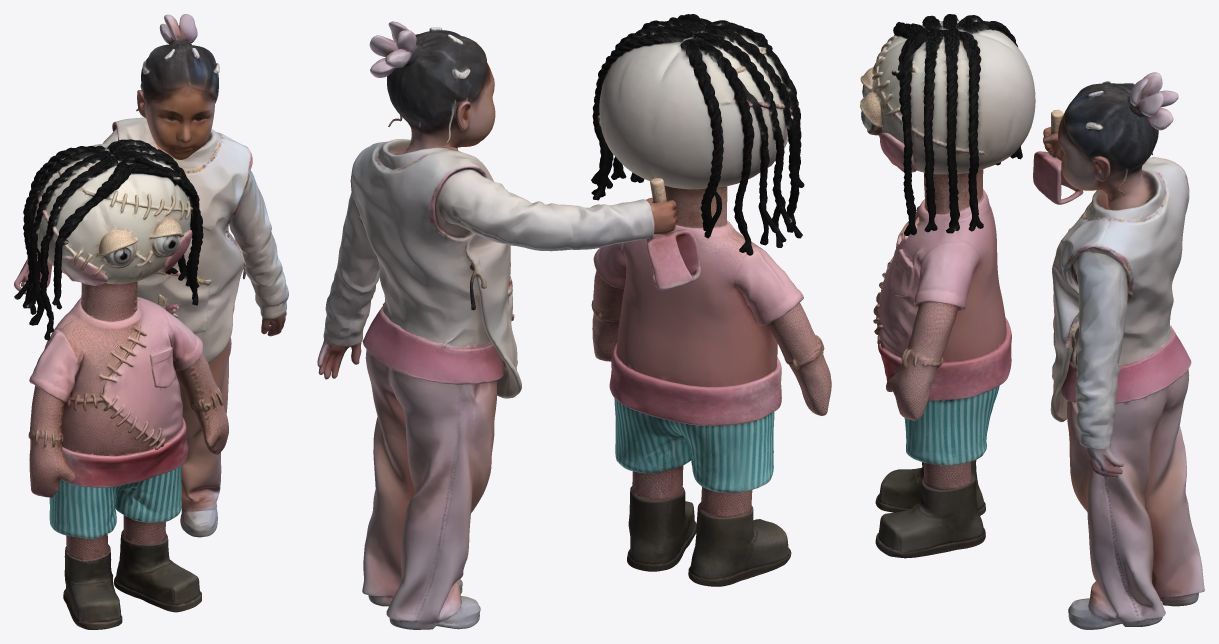
The model's file is Luana baja.glb.
3 renders of one model, left to right at view 1: azimuth 30°, elevation 25°; view 2: azimuth 150°, elevation 25°; view 3: azimuth 270°, elevation 25°, orthographic. The views are drawn at different scales.
Visible parts, largest first — view 1: tripo_node_077a8a57-163d-4d40-a8c8-1ac9a078bff6; view 2: tripo_node_077a8a57-163d-4d40-a8c8-1ac9a078bff6; view 3: tripo_node_077a8a57-163d-4d40-a8c8-1ac9a078bff6.
Part boxes in pixels (x1,y1,x2,y2): tripo_node_077a8a57-163d-4d40-a8c8-1ac9a078bff6: (14, 14, 288, 629); tripo_node_077a8a57-163d-4d40-a8c8-1ac9a078bff6: (317, 14, 831, 629); tripo_node_077a8a57-163d-4d40-a8c8-1ac9a078bff6: (860, 14, 1204, 629).
Size of the model in its own units: 0.7134 by 1 by 0.5686.
Materials: 1 (1 with a texture image).
